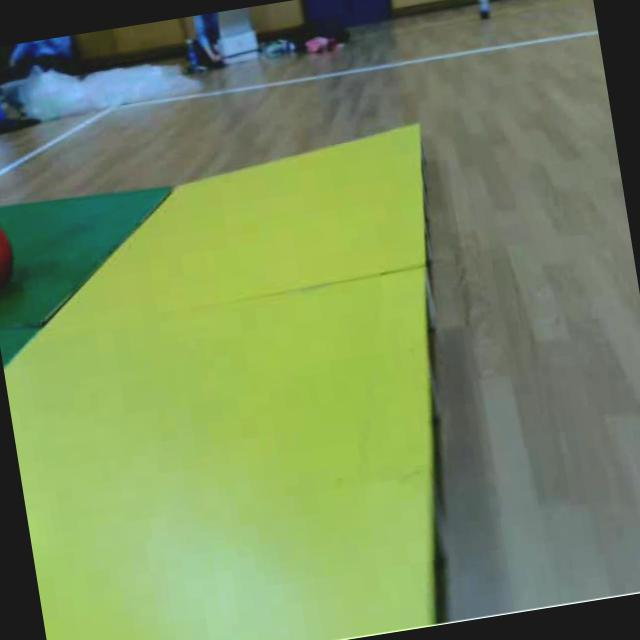red_ball: (0, 206, 19, 291)
